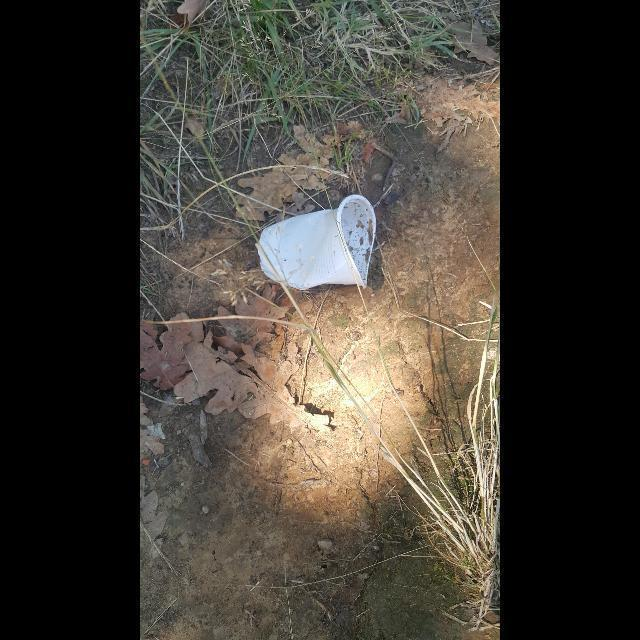Plastic: (258, 194, 376, 290)
